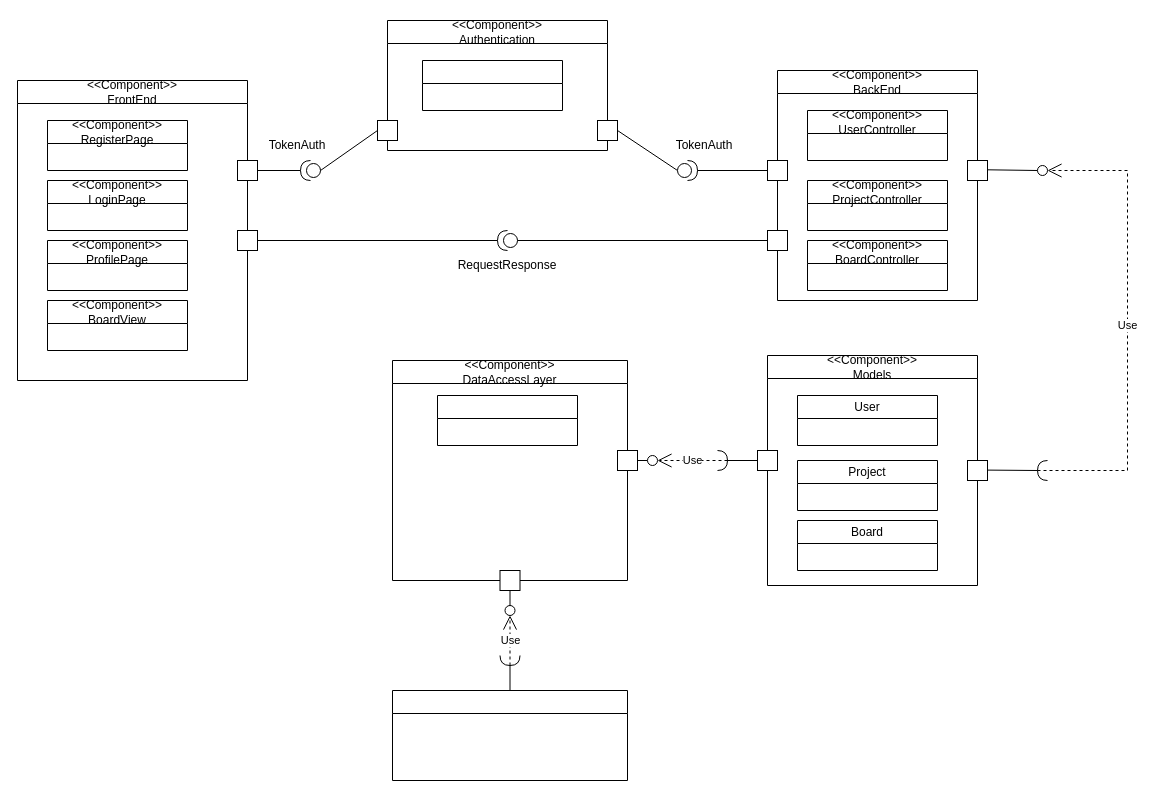
This 1159x798 diagram has some shape labels left out. The shapes that lost their labels are listed below. From the top down, each one's centre as x and y in pixels, then its label:
the point at 492,85: <<Component>> GoogleExternalLogin
the point at 507,420: DBContext
the point at 510,735: <<Component>> Database
